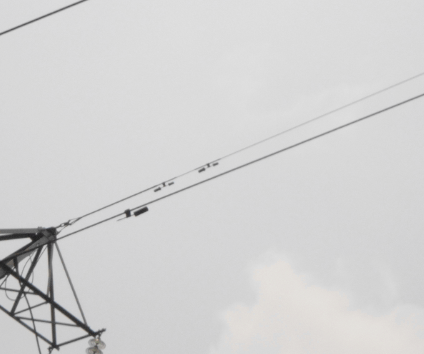damper: (197, 160, 220, 173), (152, 179, 175, 191)
damper_defect: (114, 204, 149, 223)
